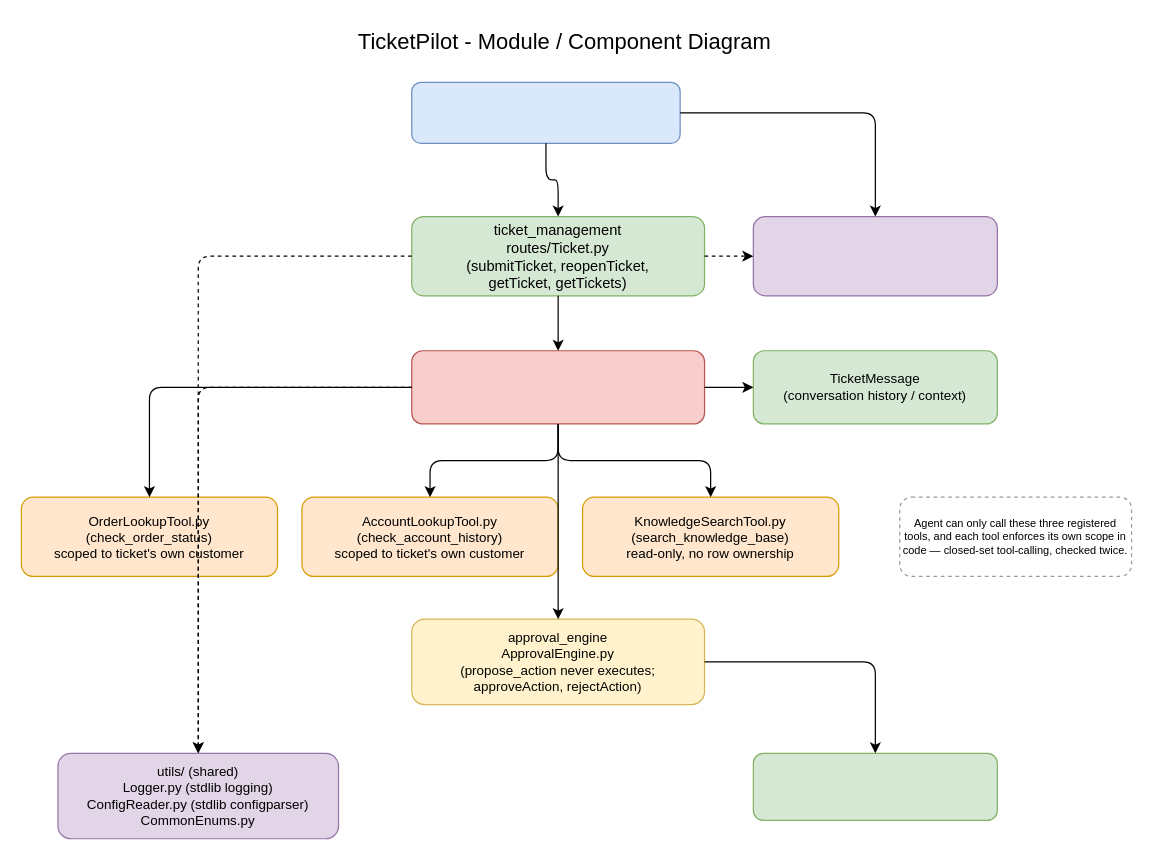
This 1153x860 diagram has some shape labels left out. Each missing label, with the centre of its shape:
"AgentOrchestrator.py (tool-calling loop, closed tool set)" belongs at point 558,387.
"AuditLog" belongs at point 874,786.
"auth routes/Auth.py (login, verify JWT)" belongs at point 874,255.
"React.js + Redux Frontend" belongs at point 545,112.
